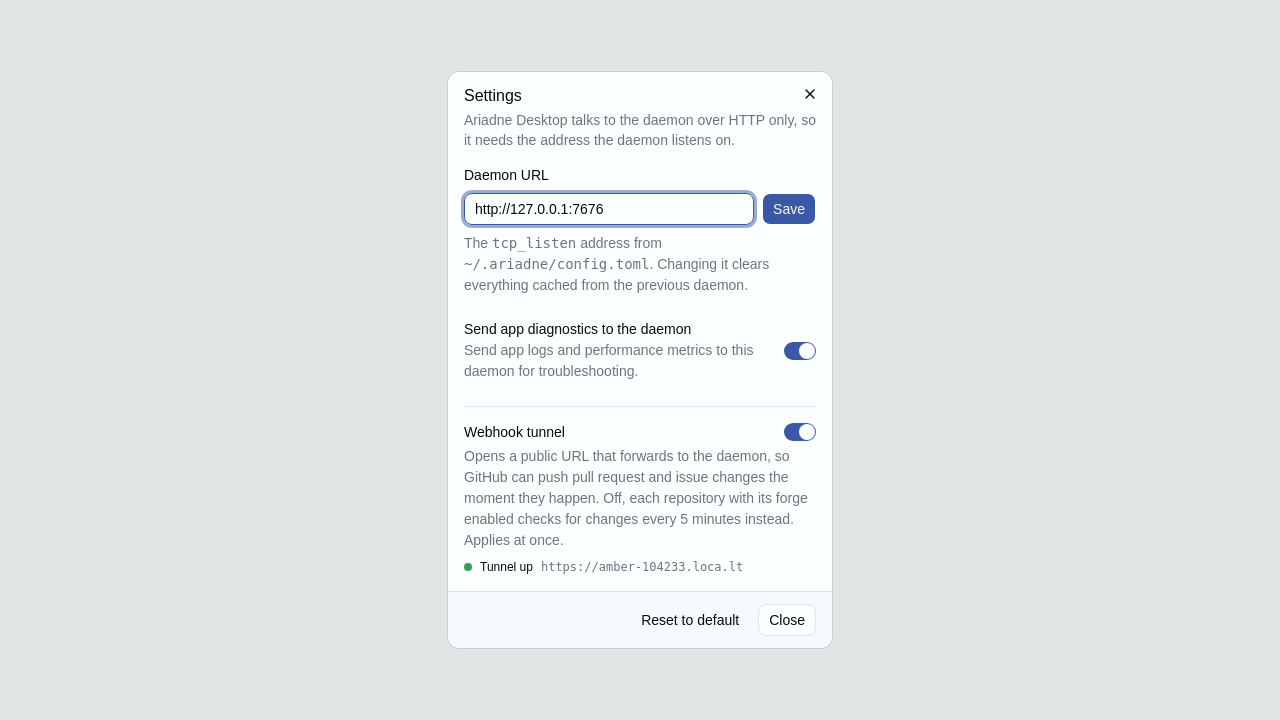
Test case: SettingsDialog › saves the daemon URL from the button beside the field, and closes
The image size is (1280, 720).
Type "http://localhost:9999" into the field labelled "Daemon URL" at (609, 209), box [464, 193, 754, 225]
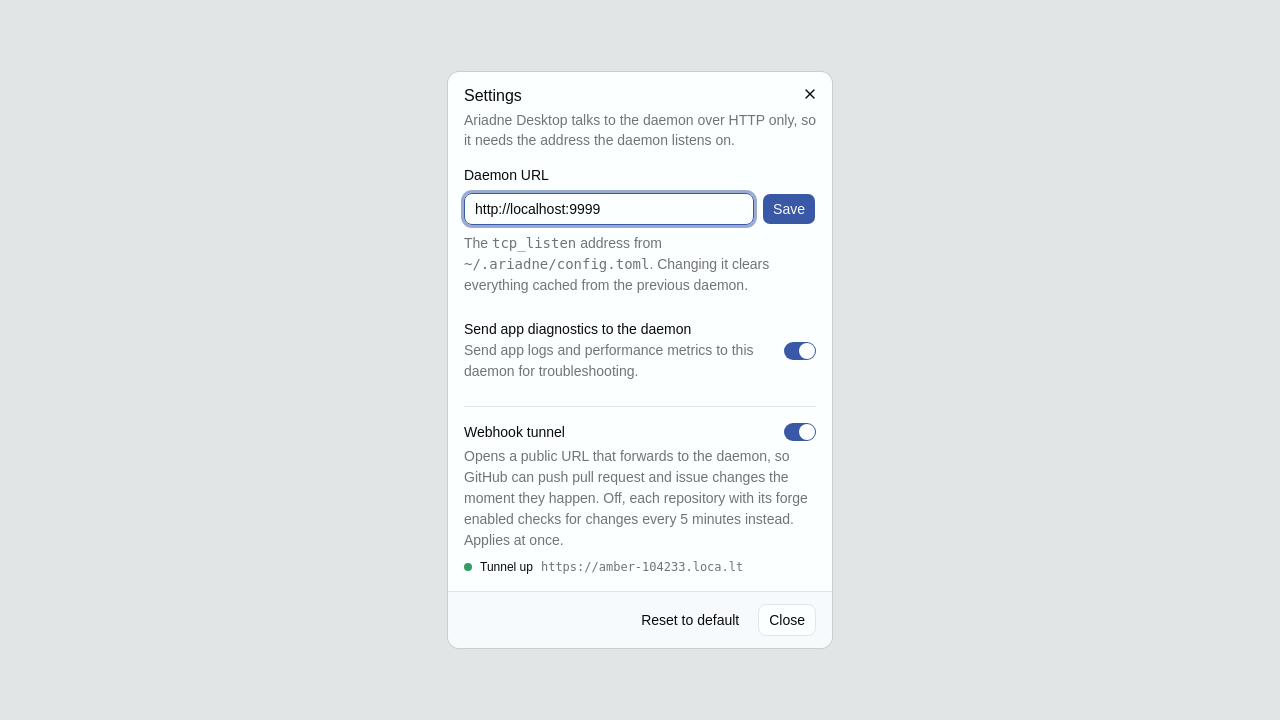
Click the button "Save" at (789, 209), box [762, 193, 816, 225]
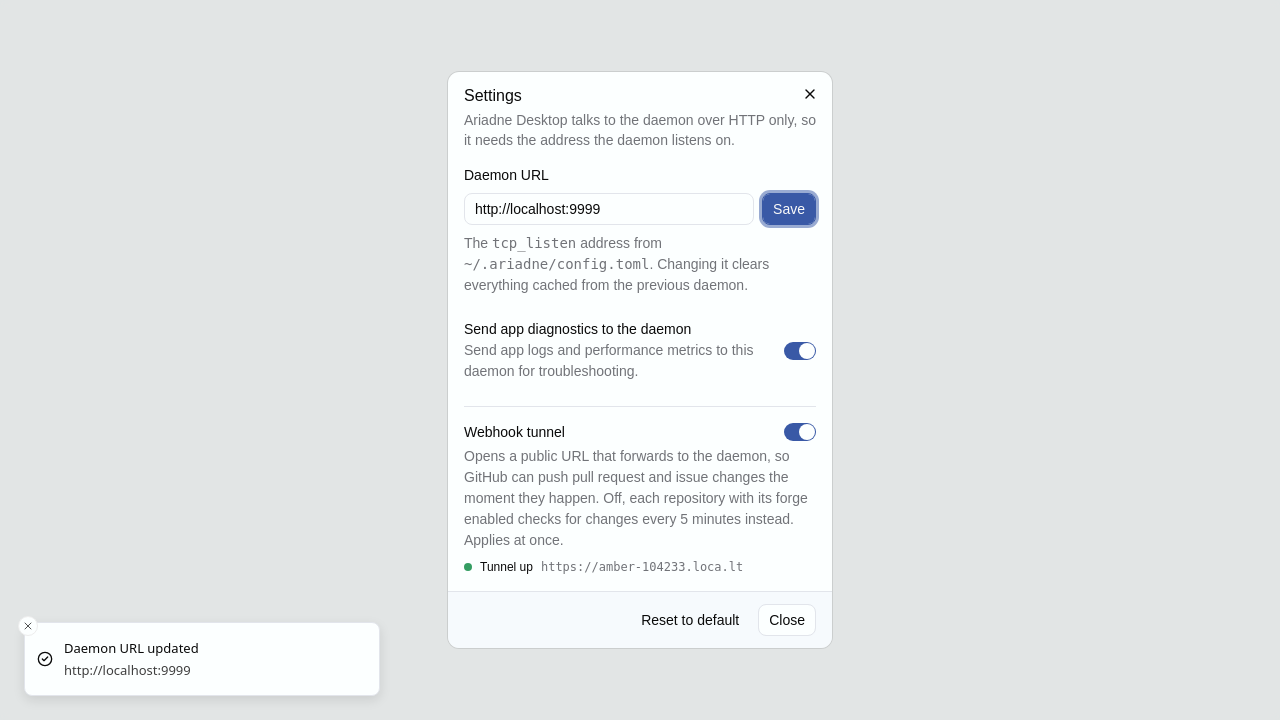
Expected: the text "Daemon URL updated" is shown, [64, 639, 199, 659]
Expected: the text "http://localhost:9999" is shown, [64, 661, 199, 679]
